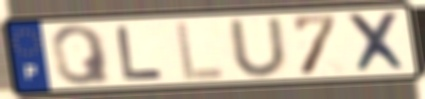7: (291, 12, 341, 77)
L: (173, 19, 227, 83), (113, 24, 167, 83)
Q: (49, 23, 115, 87)
U: (225, 15, 292, 79)
X: (343, 10, 413, 75)
